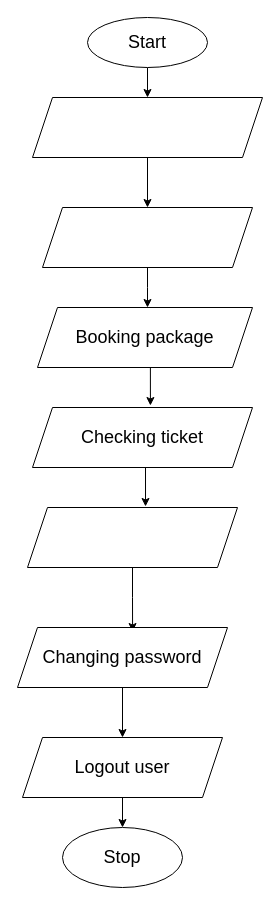
Some shapes in this 280 by 905 pixel diagram are drawn without their labels. The shapes that lost their labels are listed below. From the top down, each one's centre as x and y in pixels, then its label:
At point (147, 127): "Login username or email and password".
At point (147, 237): "Show broucher".
At point (132, 537): "Cancelling ticket".
